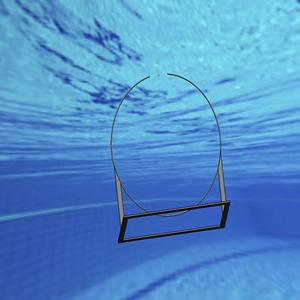circle: (108, 71, 233, 243)
